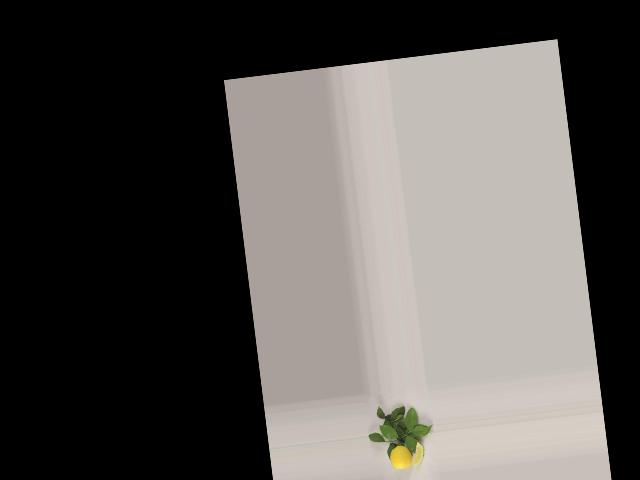lemon: (387, 442, 411, 470)
